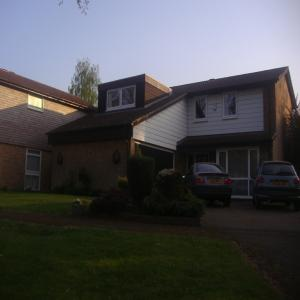Vehicle-registration-plate: (209, 179, 223, 183)
